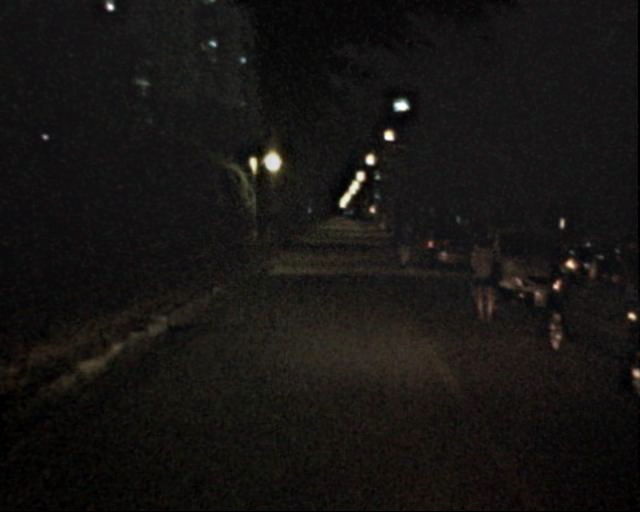person: (461, 231, 500, 327), (393, 219, 413, 268), (383, 223, 399, 262)
